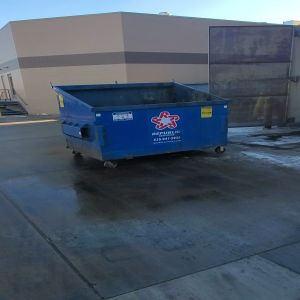Dumpster: (49, 79, 236, 167)
